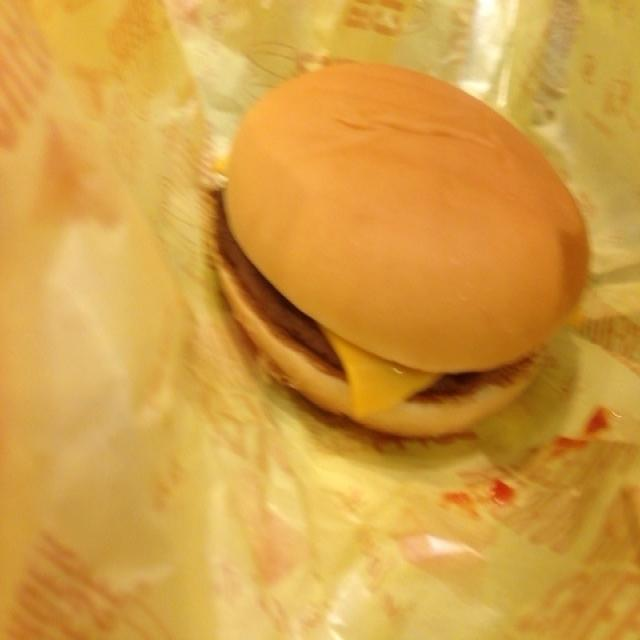Hamburger: (221, 70, 590, 444)
